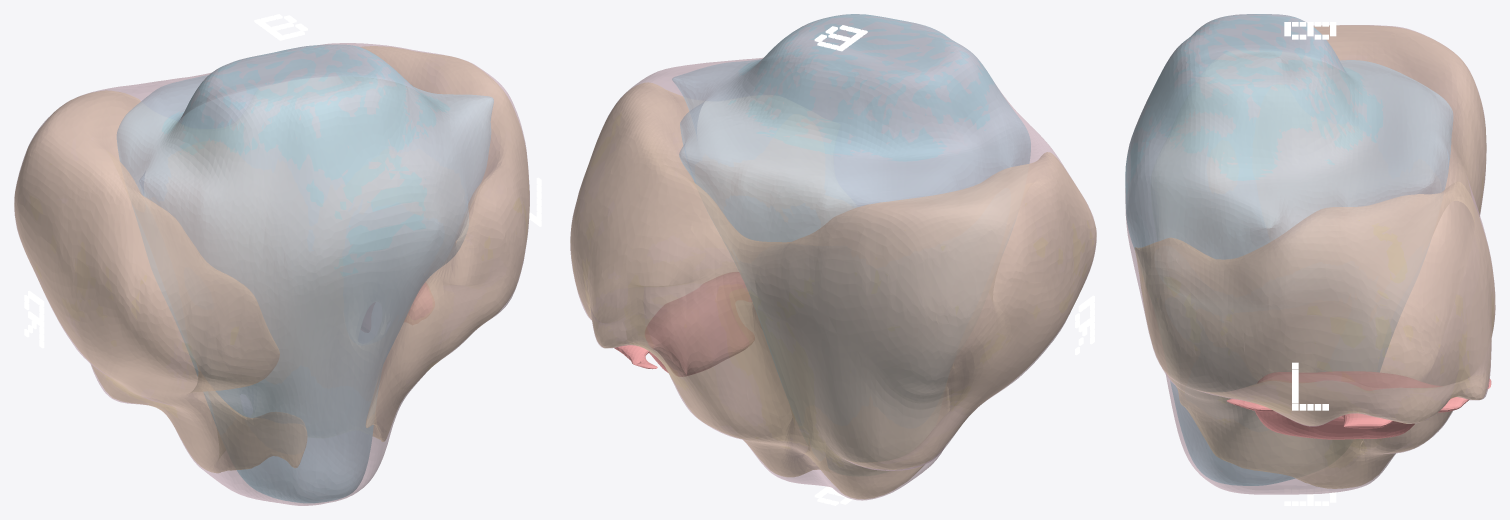
The picture shows the model from 3 angles, left to right: view 1: azimuth 30°, elevation 25°; view 2: azimuth 150°, elevation 25°; view 3: azimuth 270°, elevation 25°; orthographic projection. The views are drawn at different scales.
Parts seen in each view (by area): view 1: prostate_gland, transition_zone, peripheral_zone, lesion_01, pv_ar_marker_B, pv_ar_marker_R; view 2: prostate_gland, peripheral_zone, transition_zone, lesion_01, pv_ar_marker_B, pv_ar_marker_R; view 3: prostate_gland, peripheral_zone, transition_zone, lesion_01, pv_ar_marker_B, pv_ar_marker_L, pv_ar_marker_A.
Boxes of the visible parts, bbox=[...] form: prostate_gland: bbox=[14, 43, 529, 505]; transition_zone: bbox=[117, 44, 493, 502]; peripheral_zone: bbox=[14, 46, 529, 472]; lesion_01: bbox=[361, 283, 434, 332]; pv_ar_marker_B: bbox=[254, 14, 307, 40]; pv_ar_marker_R: bbox=[24, 290, 44, 348]; prostate_gland: bbox=[570, 14, 1096, 500]; peripheral_zone: bbox=[570, 82, 1096, 499]; transition_zone: bbox=[672, 14, 1030, 397]; lesion_01: bbox=[614, 272, 754, 376]; pv_ar_marker_B: bbox=[814, 25, 867, 51]; pv_ar_marker_R: bbox=[1075, 295, 1094, 355]; prostate_gland: bbox=[1125, 14, 1495, 494]; peripheral_zone: bbox=[1134, 25, 1494, 488]; transition_zone: bbox=[1125, 14, 1452, 485]; lesion_01: bbox=[1226, 371, 1491, 439]; pv_ar_marker_B: bbox=[1284, 22, 1336, 39]; pv_ar_marker_L: bbox=[1292, 362, 1328, 410]; pv_ar_marker_A: bbox=[1284, 489, 1336, 505].
Size of the model in its own units: 0.0489 by 0.0434 by 0.0311.
